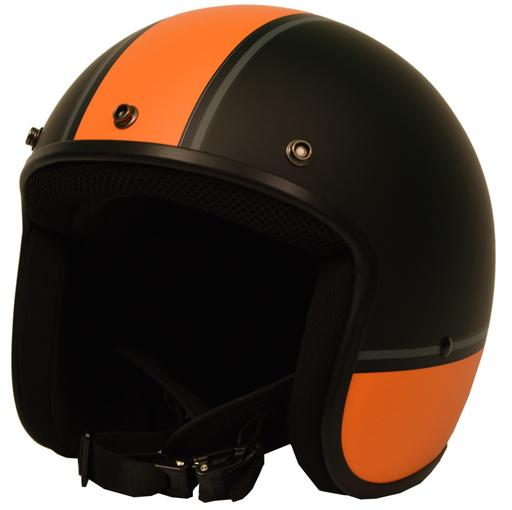with_helmet: (8, 1, 512, 507)
